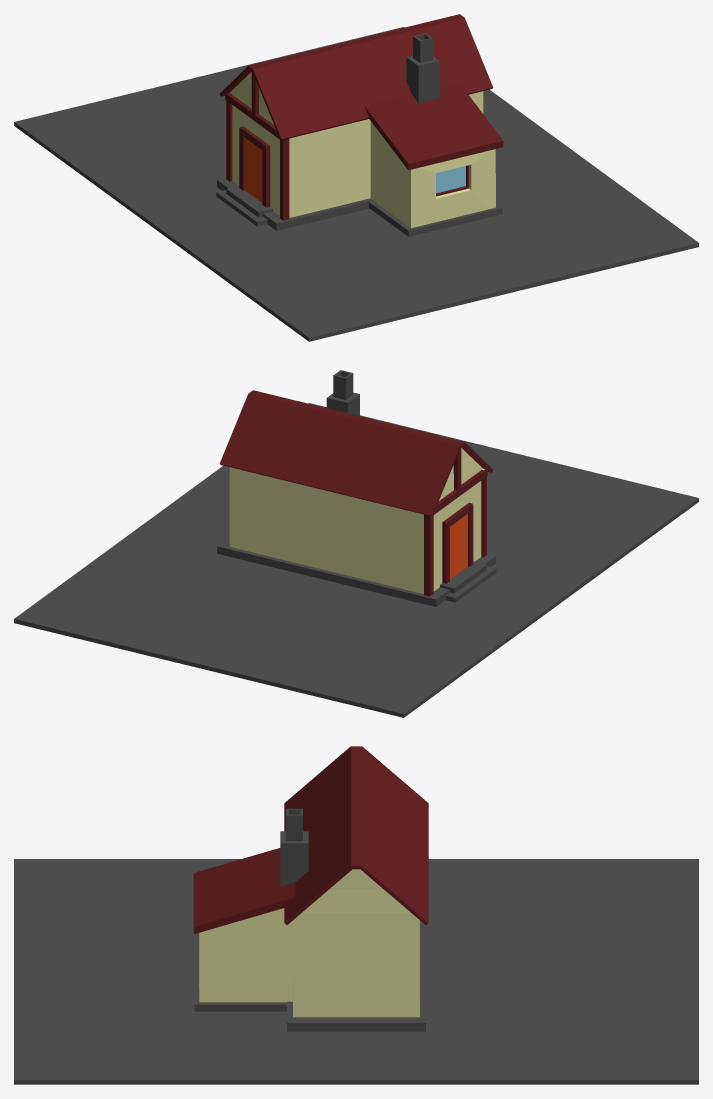
Rendered from HouseOne.fbx.
3 renders of one model, top to bottom at view 1: azimuth 30°, elevation 25°; view 2: azimuth 150°, elevation 25°; view 3: azimuth 270°, elevation 25°, orthographic. The views are drawn at different scales.
Visible parts, largest first — view 1: Cube, Cube.001, Cube.002; view 2: Cube, Cube.001, Cube.002; view 3: Cube, Cube.001, Cube.002.
Part boxes in pixels (x1,y1,x2,y2): Cube: (14, 27, 698, 341); Cube.001: (220, 14, 493, 140); Cube.002: (406, 33, 439, 103); Cube: (14, 403, 698, 717); Cube.001: (219, 390, 492, 516); Cube.002: (326, 370, 359, 415); Cube: (14, 848, 698, 1084); Cube.001: (284, 746, 428, 924); Cube.002: (280, 808, 308, 886).
Bounding box in the file's own units: 833 × 325 × 1093.
